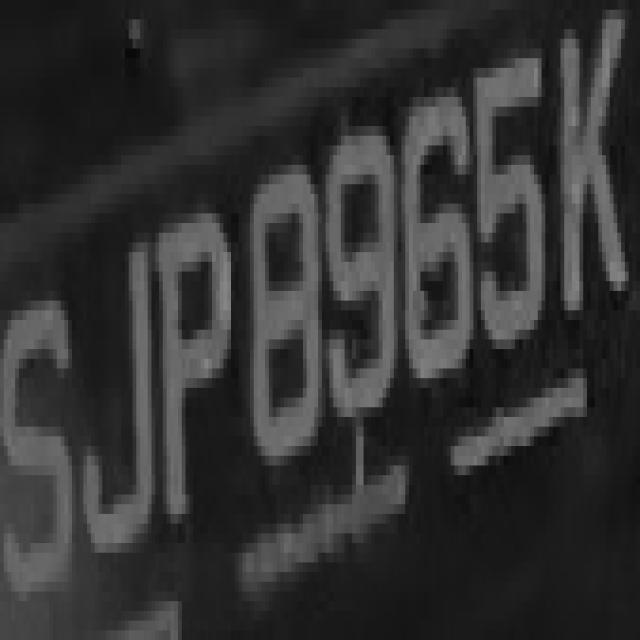5: (462, 39, 545, 368)
6: (390, 59, 477, 436)
8: (246, 136, 341, 514)
9: (314, 78, 413, 466)
J: (84, 252, 170, 572)
K: (549, 9, 629, 368)
P: (148, 204, 235, 524)
S: (0, 4, 1, 10)
